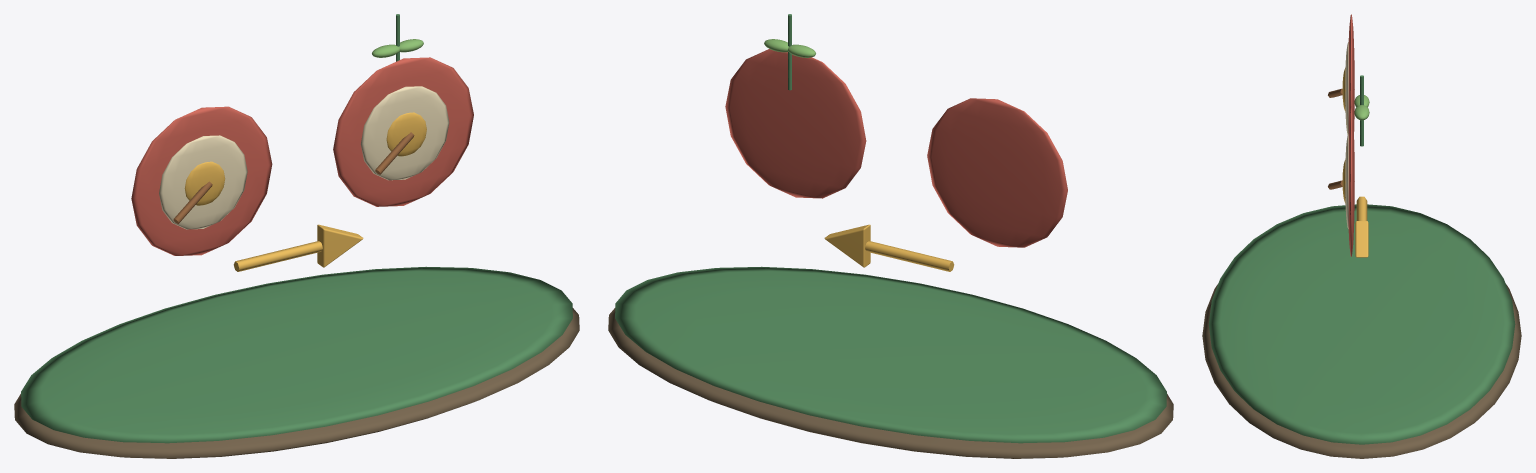
Rendered from complete-second-cause-this-therefore.glb.
3 views of the same model, side by side, from view 1: azimuth 30°, elevation 25°; view 2: azimuth 150°, elevation 25°; view 3: azimuth 270°, elevation 25° (orthographic). The views are drawn at different scales.
Visible parts, largest first — view 1: complete-second-cause-this-therefore_surface_01, complete-second-cause-this-therefore_surface_02, complete-second-cause-this-therefore_surface_03, complete-second-cause-this-therefore_surface_00, complete-second-cause-this-therefore_surface_04, complete-second-cause-this-therefore_surface_05; view 2: complete-second-cause-this-therefore_surface_01, complete-second-cause-this-therefore_surface_02, complete-second-cause-this-therefore_surface_00, complete-second-cause-this-therefore_surface_04; view 3: complete-second-cause-this-therefore_surface_01, complete-second-cause-this-therefore_surface_00, complete-second-cause-this-therefore_surface_02, complete-second-cause-this-therefore_surface_04, complete-second-cause-this-therefore_surface_03.
Boxes of the visible parts, x1,y1,x2,y2 form: complete-second-cause-this-therefore_surface_01: [21, 14, 572, 443]; complete-second-cause-this-therefore_surface_02: [131, 57, 473, 255]; complete-second-cause-this-therefore_surface_03: [159, 86, 449, 229]; complete-second-cause-this-therefore_surface_00: [14, 308, 579, 458]; complete-second-cause-this-therefore_surface_04: [184, 112, 426, 271]; complete-second-cause-this-therefore_surface_05: [173, 132, 414, 223]; complete-second-cause-this-therefore_surface_01: [615, 14, 1166, 443]; complete-second-cause-this-therefore_surface_02: [725, 49, 1067, 247]; complete-second-cause-this-therefore_surface_00: [608, 308, 1173, 458]; complete-second-cause-this-therefore_surface_04: [824, 224, 954, 271]; complete-second-cause-this-therefore_surface_01: [1208, 75, 1515, 444]; complete-second-cause-this-therefore_surface_00: [1202, 283, 1521, 458]; complete-second-cause-this-therefore_surface_02: [1348, 14, 1354, 256]; complete-second-cause-this-therefore_surface_04: [1342, 68, 1368, 257]; complete-second-cause-this-therefore_surface_03: [1345, 42, 1348, 228].
Bounding box in the file's own units: 4.56 × 2.77 × 2.5.
